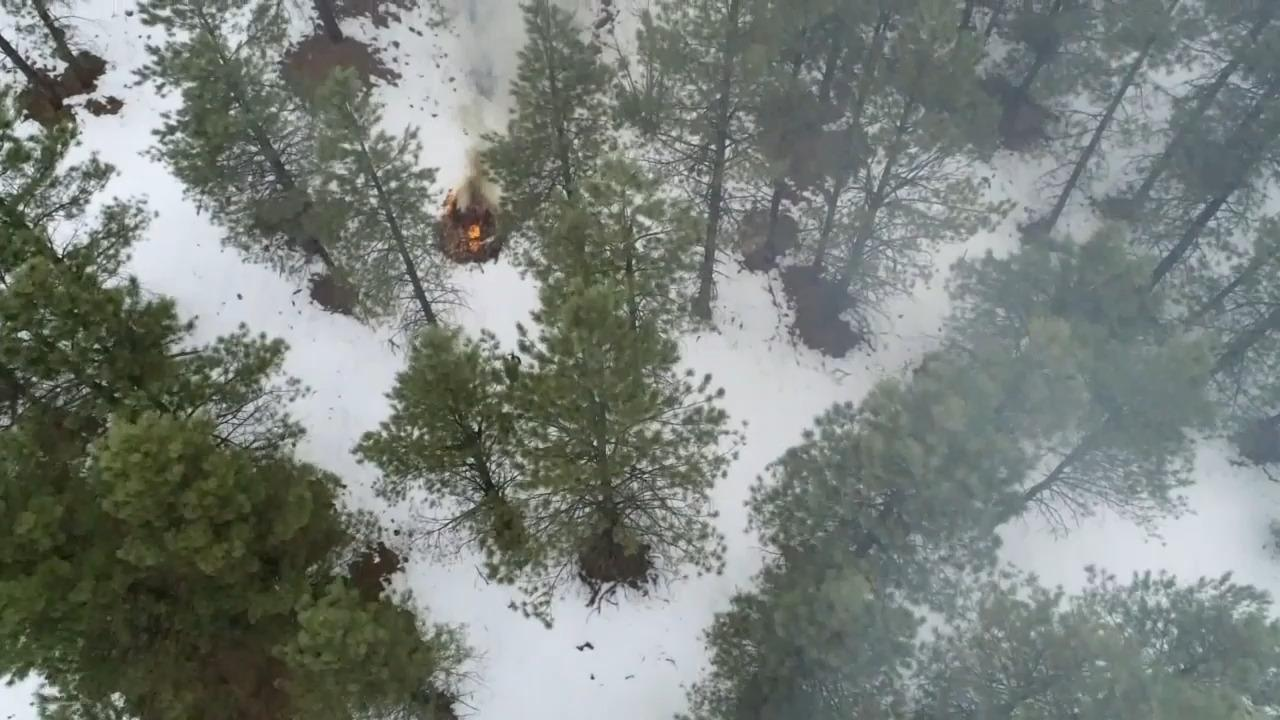fire: (456, 214, 491, 256)
